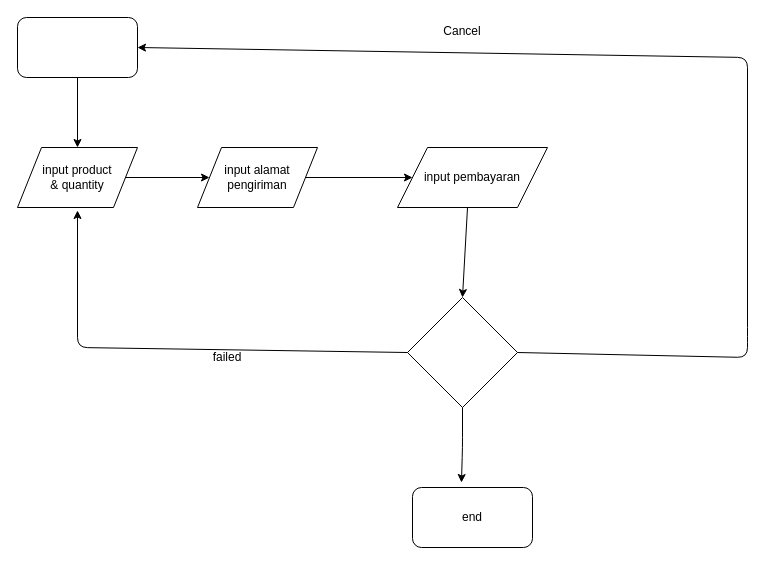
Some shapes in this 773 by 565 pixel diagram are drawn without their labels. The centre of each missing label's shape, as x and y in pixels:
Proses: point (462, 352)
start: point (77, 47)
